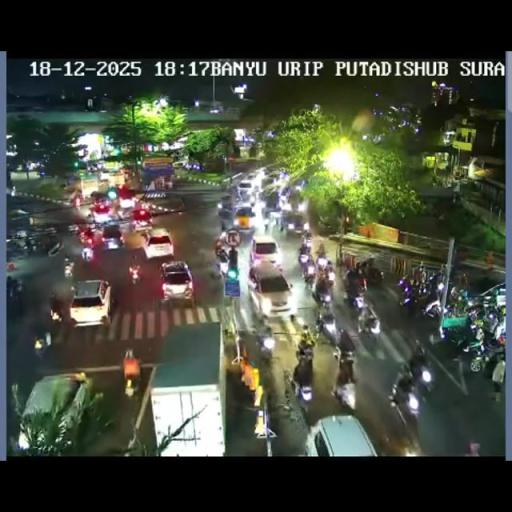Car: (18, 372, 90, 452), (304, 414, 380, 455), (249, 263, 293, 317), (68, 279, 111, 326), (160, 260, 194, 305), (463, 280, 504, 316), (248, 234, 282, 268), (141, 228, 172, 258), (101, 224, 125, 250), (282, 210, 306, 234), (130, 207, 154, 230), (234, 206, 256, 230), (236, 179, 258, 202), (116, 187, 138, 210), (90, 202, 113, 223), (262, 169, 285, 189), (90, 190, 108, 204), (172, 159, 190, 169)
Motorcycle: (301, 240, 380, 403), (460, 326, 504, 372), (387, 366, 422, 417), (403, 278, 438, 317), (291, 353, 314, 404), (357, 304, 381, 343), (331, 376, 357, 410), (440, 292, 470, 321), (317, 312, 339, 346), (344, 275, 365, 306), (6, 276, 24, 312), (362, 262, 384, 288), (338, 328, 356, 359), (36, 234, 62, 255), (298, 254, 316, 283), (311, 278, 331, 304), (6, 238, 27, 261), (123, 372, 139, 398), (454, 269, 470, 295), (258, 333, 274, 358), (321, 260, 335, 285), (492, 316, 505, 341), (296, 341, 314, 359), (216, 254, 230, 277), (50, 299, 64, 322), (414, 263, 428, 286), (80, 244, 94, 262), (34, 337, 46, 358), (253, 197, 266, 216), (298, 236, 310, 256), (330, 344, 342, 363), (64, 256, 74, 278), (129, 266, 141, 284), (277, 191, 289, 209), (25, 236, 36, 254), (316, 240, 326, 258), (214, 238, 224, 256), (67, 223, 80, 235), (84, 232, 94, 247), (262, 212, 270, 230), (73, 196, 82, 211), (164, 177, 174, 189), (220, 218, 226, 234), (302, 221, 310, 231), (86, 212, 94, 222)
